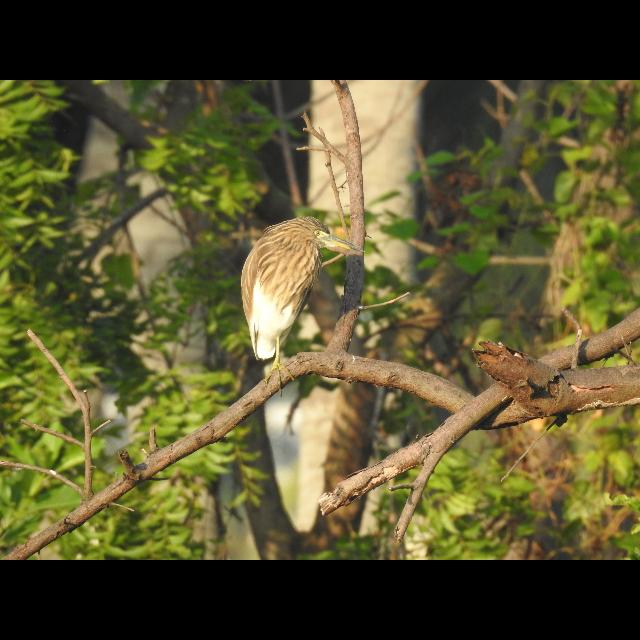heron: (238, 212, 358, 380)
